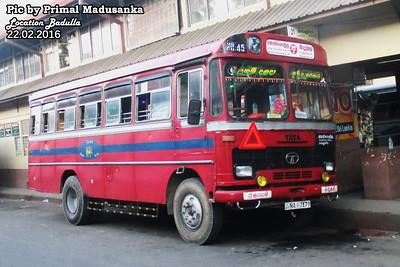bus: (13, 31, 344, 248)
